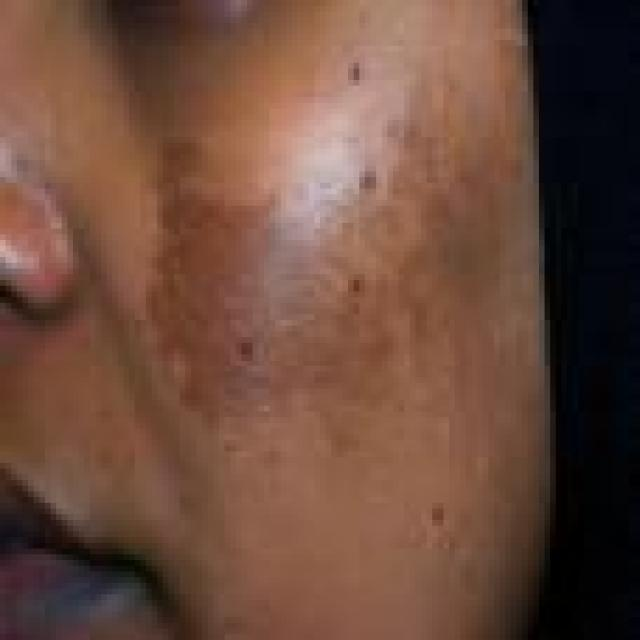Melasma: (131, 126, 508, 436)
